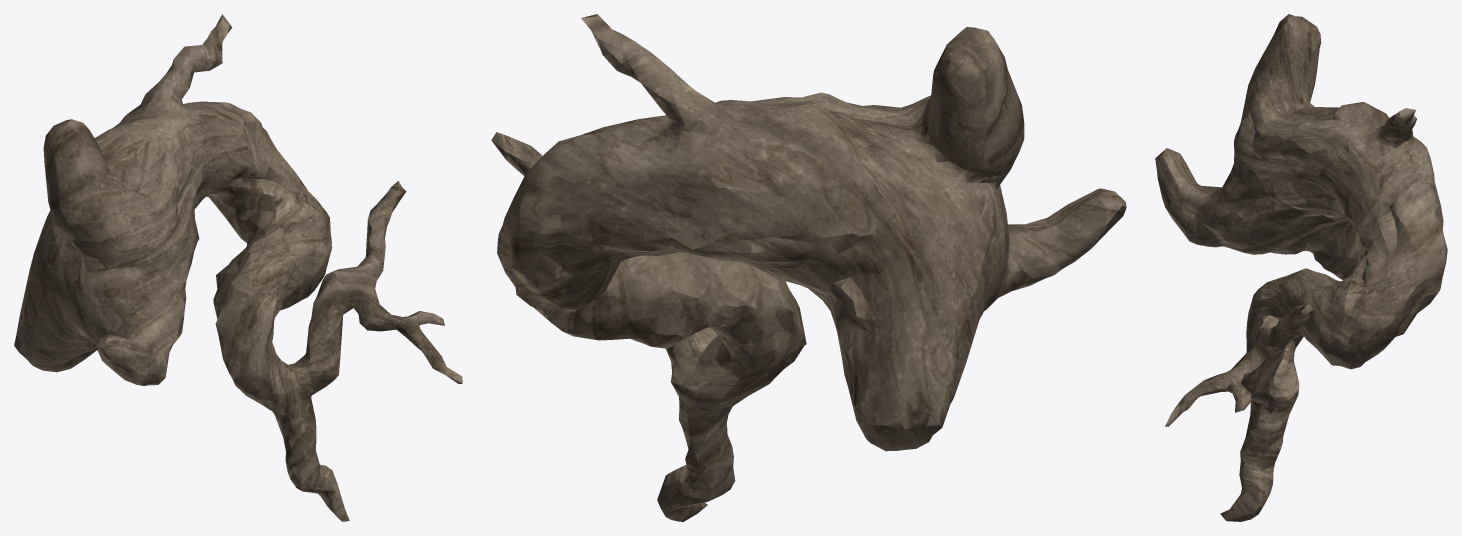
File: tree mid.fbx
3 renders of one model, left to right at view 1: azimuth 30°, elevation 25°; view 2: azimuth 150°, elevation 25°; view 3: azimuth 270°, elevation 25°, orthographic. The views are drawn at different scales.
Visible parts, largest first — view 1: tree_Low__4_; view 2: tree_Low__4_; view 3: tree_Low__4_.
Boxes of the visible parts, x1,y1,x2,y2 form: tree_Low__4_: [14, 14, 462, 521]; tree_Low__4_: [491, 14, 1126, 521]; tree_Low__4_: [1155, 14, 1447, 521].
Size of the model in its own units: 174 by 190 by 125.
